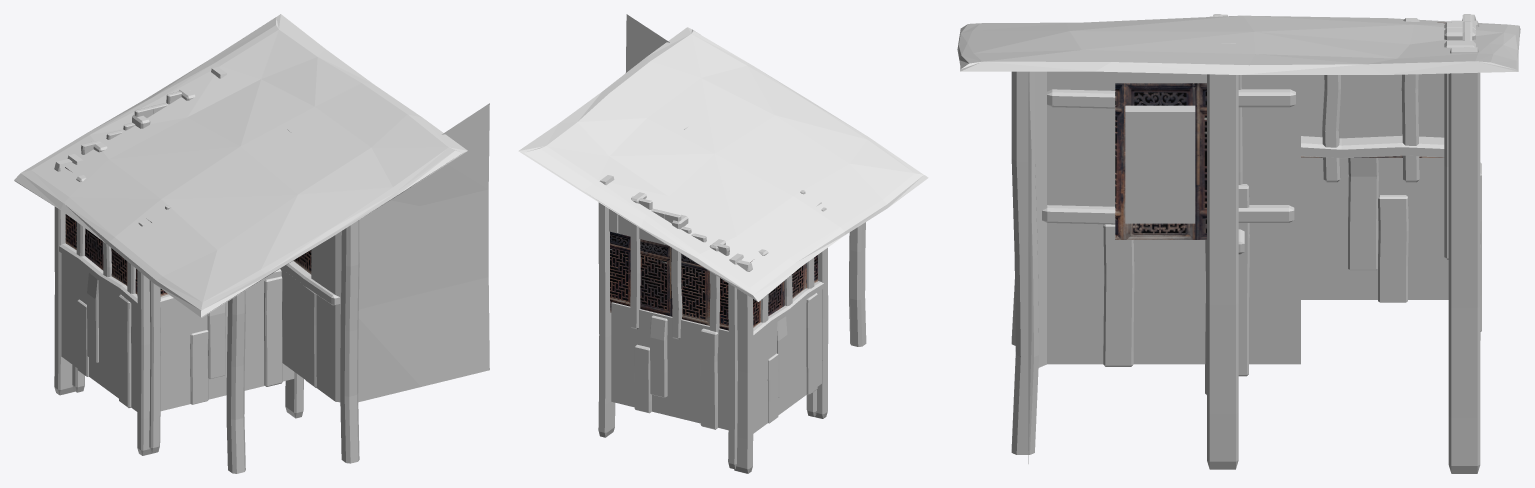
The model's file is autre Maisonfbx.fbx.
3 views of the same model, side by side, from view 1: azimuth 30°, elevation 25°; view 2: azimuth 150°, elevation 25°; view 3: azimuth 270°, elevation 25° (orthographic). The views are drawn at different scales.
Parts seen in each view (by area): view 1: Plane.007, Cube.029, Cube.053, Cube.056, Cube.055, Cube.038, Cube.033; view 2: Plane.007, Cube.053, Cube.055, Cube.029; view 3: Cube.053, Cube.029, Plane.007, Cube.056, Plane.008, Cube.038, Cube.034, Cube.033, Cube.037.
Boxes of the visible parts, bbox=[...] form: Plane.007: bbox=[14, 14, 467, 317]; Cube.029: bbox=[280, 103, 489, 402]; Cube.053: bbox=[54, 67, 303, 455]; Cube.056: bbox=[340, 220, 359, 463]; Cube.055: bbox=[226, 290, 245, 473]; Cube.038: bbox=[305, 287, 316, 387]; Cube.033: bbox=[282, 261, 340, 305]; Plane.007: bbox=[518, 27, 928, 302]; Cube.053: bbox=[598, 127, 828, 473]; Cube.055: bbox=[849, 222, 866, 346]; Cube.029: bbox=[626, 14, 669, 72]; Cube.053: bbox=[1205, 14, 1481, 473]; Cube.029: bbox=[1028, 71, 1300, 463]; Plane.007: bbox=[957, 15, 1520, 74]; Cube.056: bbox=[1011, 71, 1038, 454]; Plane.008: bbox=[1115, 83, 1206, 239]; Cube.038: bbox=[1103, 224, 1134, 366]; Cube.034: bbox=[1047, 89, 1295, 108]; Cube.033: bbox=[1042, 205, 1294, 224]; Cube.037: bbox=[1238, 184, 1249, 376].
Bounding box in the file's own units: 995 × 1006 × 1043.
